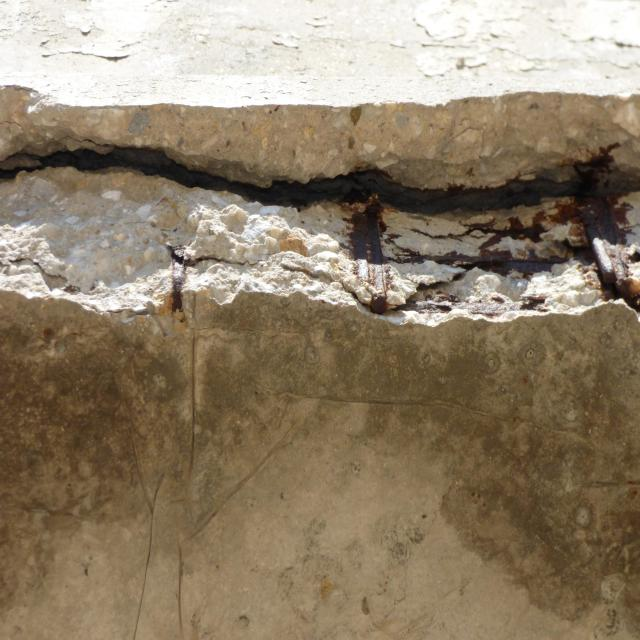Rebar: (0, 85, 640, 332)
diagonal crack: (381, 463, 457, 628)
